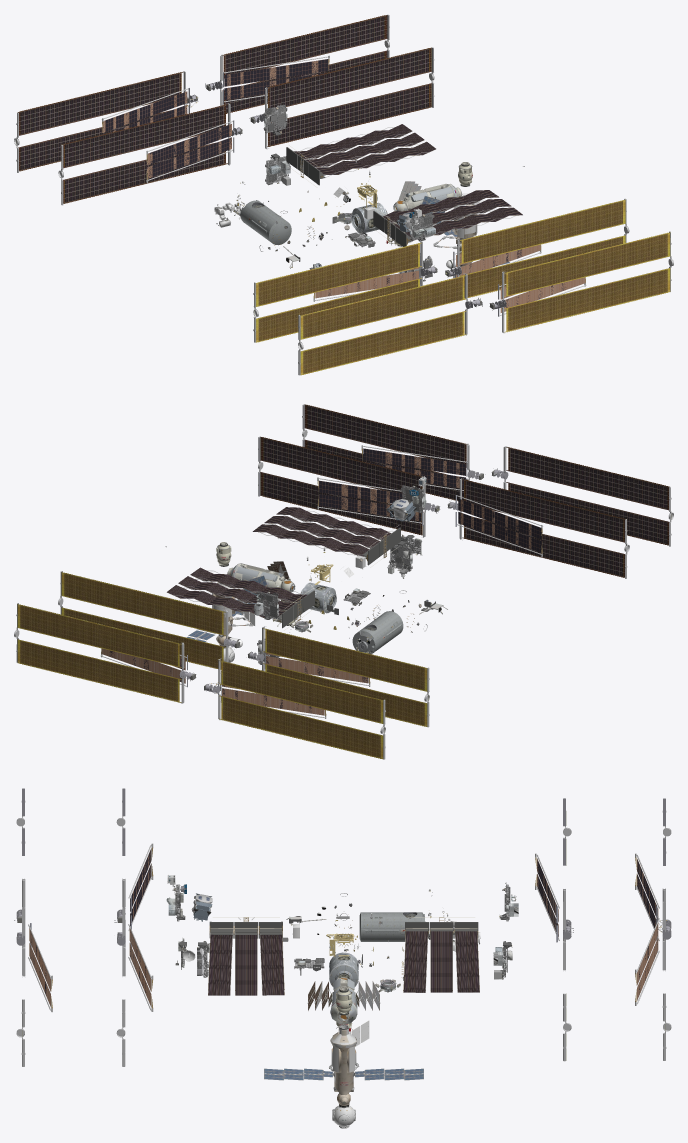
Rendered from iss_1.glb.
3 views of the same model, one above another, from view 1: azimuth 30°, elevation 25°; view 2: azimuth 150°, elevation 25°; view 3: azimuth 270°, elevation 25° (orthographic). The views are drawn at different scales.
Visible parts, largest first — view 1: Payload_MISSE_FF, IROSA_Deployed_P44A, AMS, JEM_PM.001, Zarya_FGB.001, MLM, Node1.001; view 2: Payload_MISSE_FF, IROSA_Deployed_P44A, AMS, JEM_PM.001, Zarya_FGB.001, MLM, Node1.001; view 3: Payload_MISSE_FF, IROSA_Deployed_P44A, MLM, AMS, Zarya_FGB.001, JEM_PM.001, Node1.001.
Part boxes in pixels (box(x1,y1,x2,y2)): Payload_MISSE_FF: box(14, 14, 673, 375); IROSA_Deployed_P44A: box(101, 55, 586, 316); AMS: box(215, 104, 524, 281); JEM_PM.001: box(240, 200, 291, 245); Zarya_FGB.001: box(393, 181, 462, 224); MLM: box(432, 195, 509, 268); Node1.001: box(351, 202, 387, 233); Payload_MISSE_FF: box(14, 404, 673, 759); IROSA_Deployed_P44A: box(100, 445, 542, 718); AMS: box(165, 485, 447, 664); JEM_PM.001: box(352, 611, 403, 654); Zarya_FGB.001: box(227, 561, 295, 603); MLM: box(187, 582, 255, 647); Node1.001: box(300, 582, 336, 613); Payload_MISSE_FF: box(14, 788, 671, 1066); IROSA_Deployed_P44A: box(28, 843, 668, 1012); MLM: box(264, 1020, 423, 1106); AMS: box(172, 882, 512, 1040); Zarya_FGB.001: box(307, 977, 380, 1024); JEM_PM.001: box(359, 912, 430, 941); Node1.001: box(329, 952, 358, 987).
Size of the model in its own units: 7.45 by 3.08 by 10.08.
24 materials, 23 textured.
